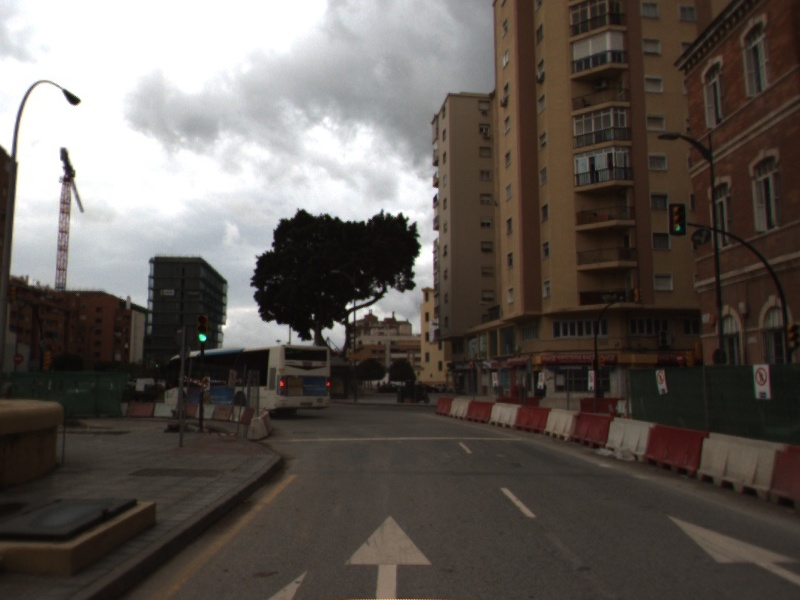STRAIGHT: (663, 511, 800, 588), (340, 512, 436, 600)
